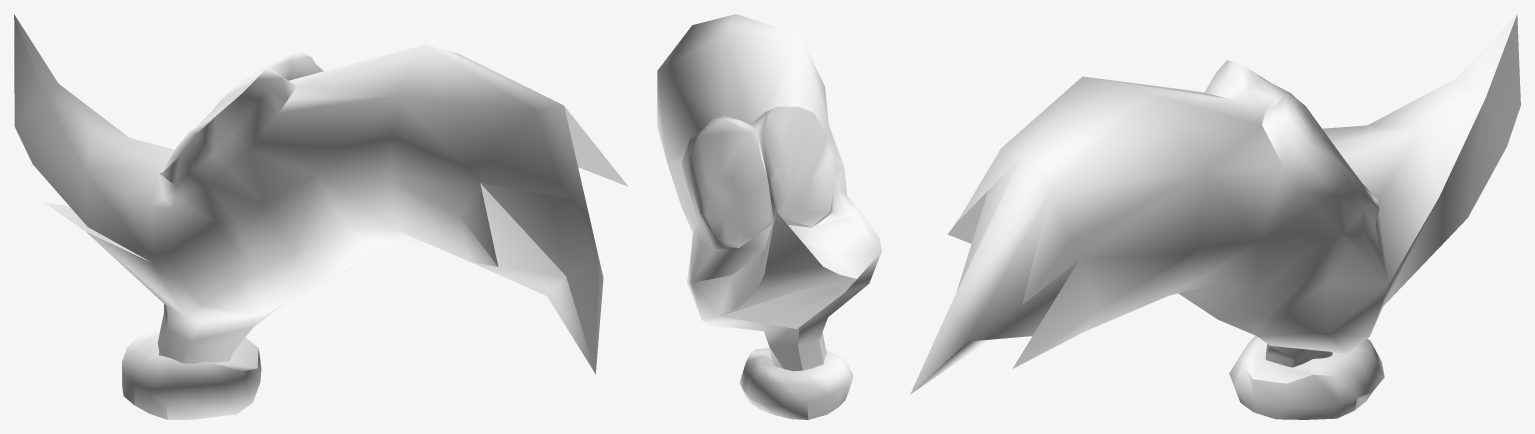
File: usj.ico.obj
3 renders of one model, left to right at view 1: azimuth 30°, elevation 25°; view 2: azimuth 150°, elevation 25°; view 3: azimuth 270°, elevation 25°, orthographic. The views are drawn at different scales.
Bounding box in the file's own units: 3.34 × 2.85 × 4.12.
1 material, 1 textured.
